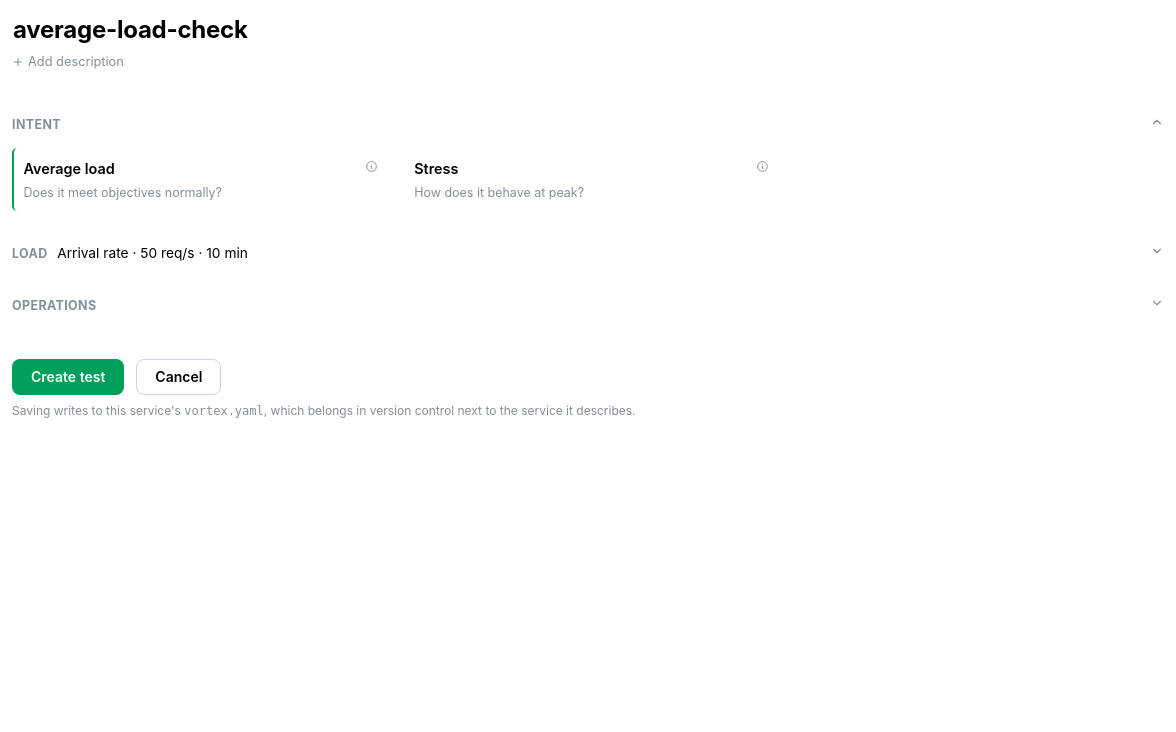
Test case: the inline test composer › shows the spike parameter editor, not generic ramp controls, once Spike is selected
Click the text "Load": (30, 253) [12,244,48,263]
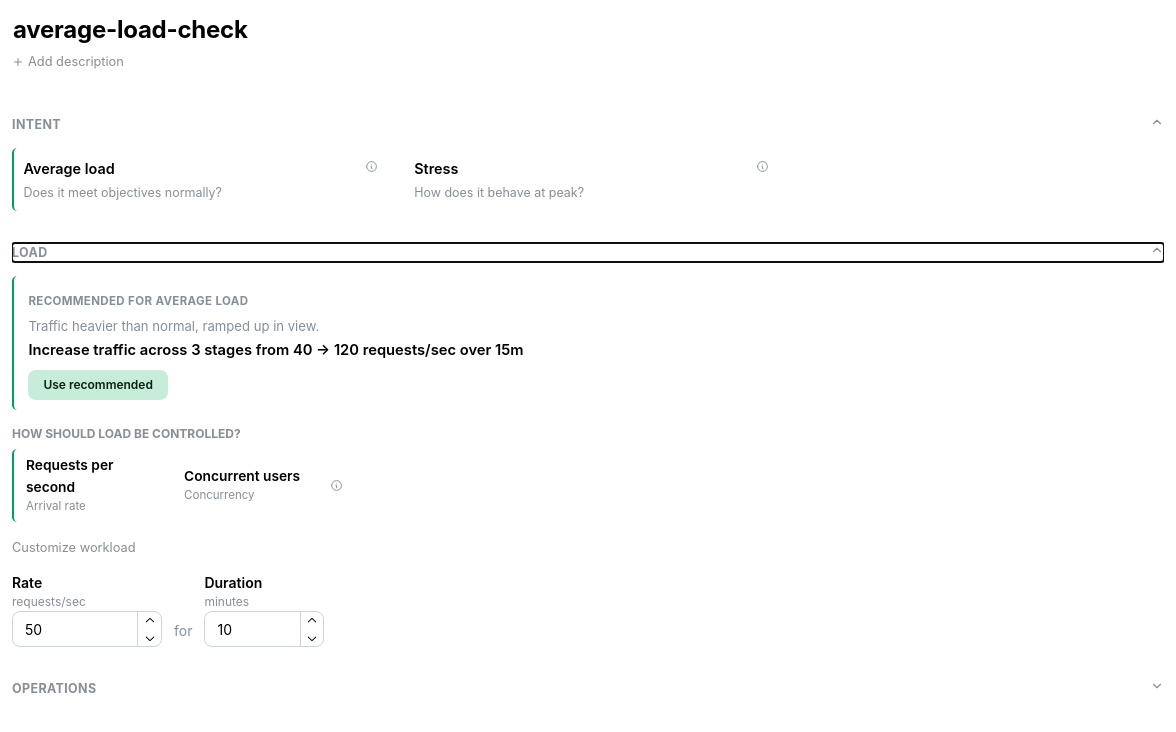
Click the button "Customize workload": (74, 548) [12,538,136,558]
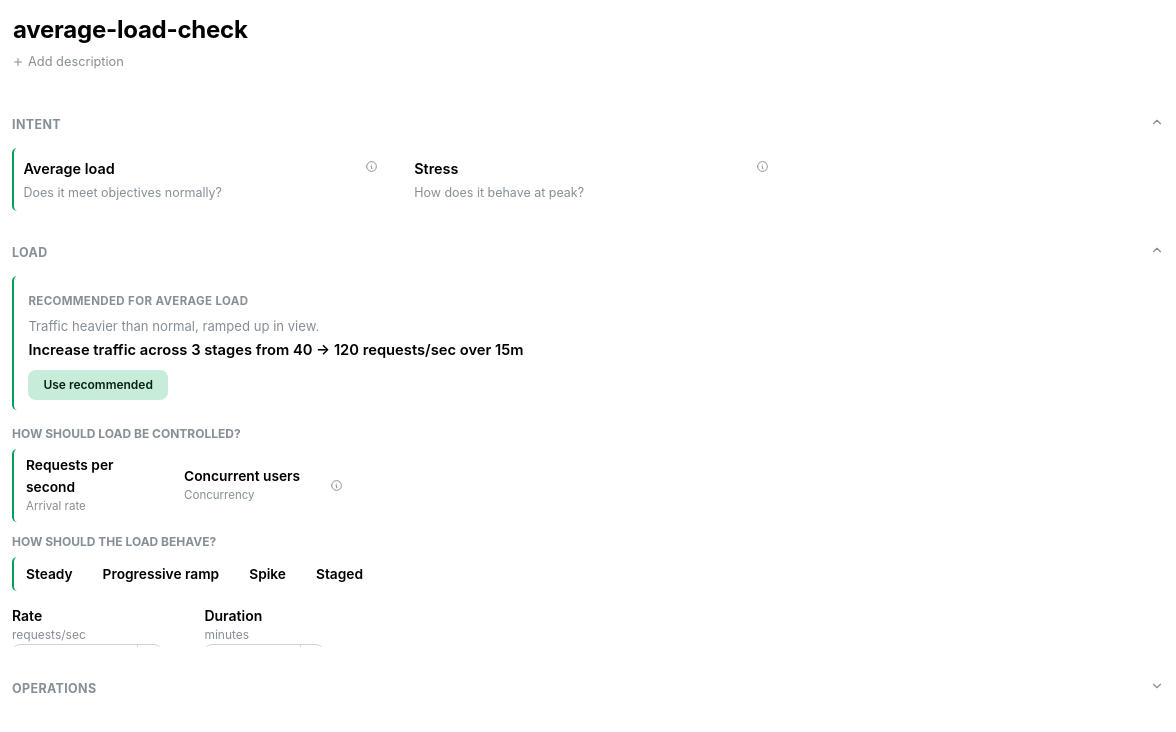
Click the button "Spike": (267, 574) [235,557,298,591]
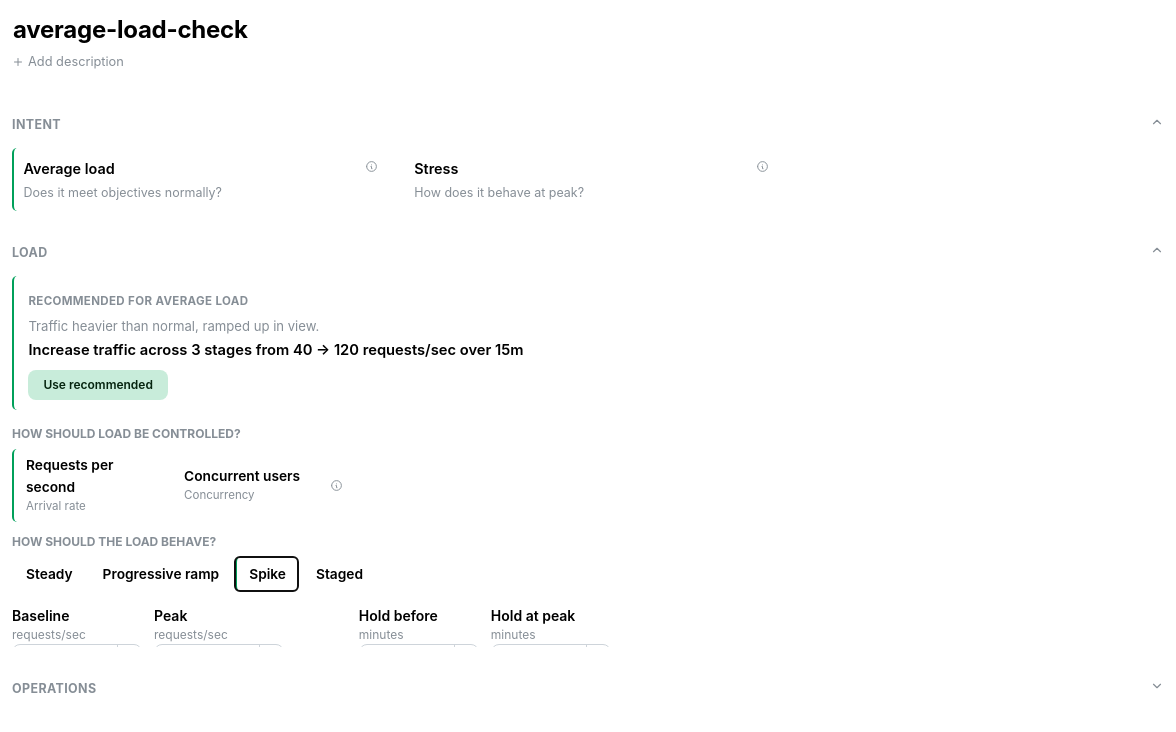
Now the text "Baseline" is shown, box [12,605,69,627]
Now the text "Peak" is shown, box [154,605,187,627]
